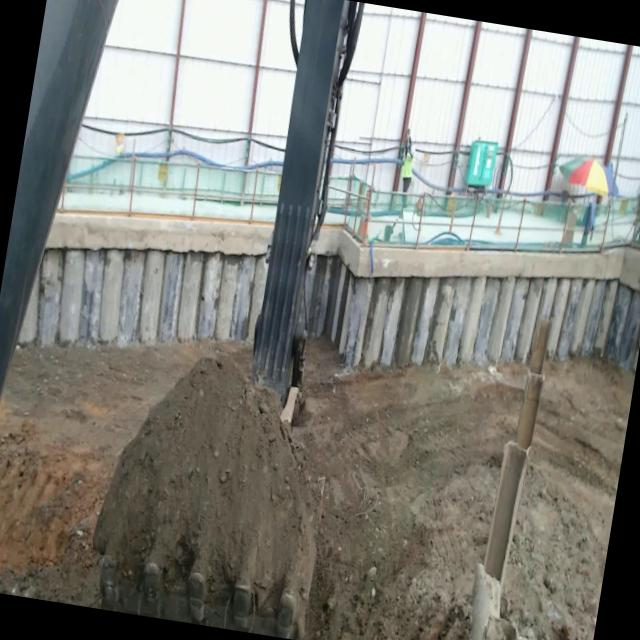white-sand: (294, 339, 528, 640), (94, 353, 320, 638), (0, 341, 217, 608), (501, 359, 635, 640)
